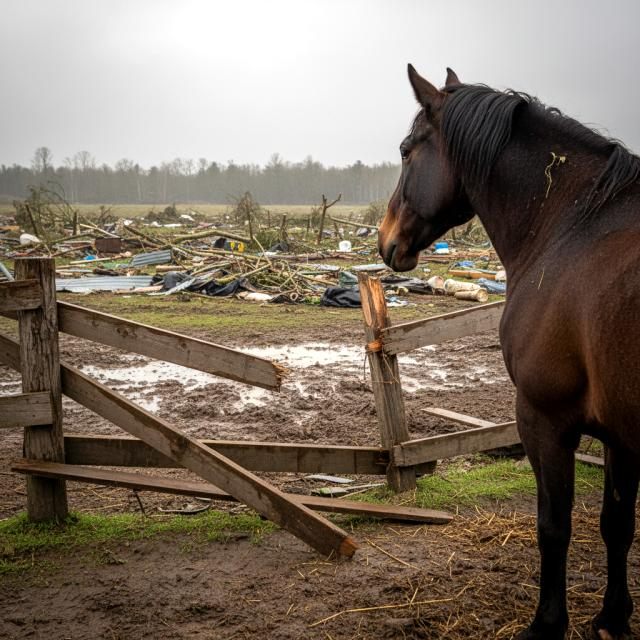horse: (376, 51, 640, 640)
